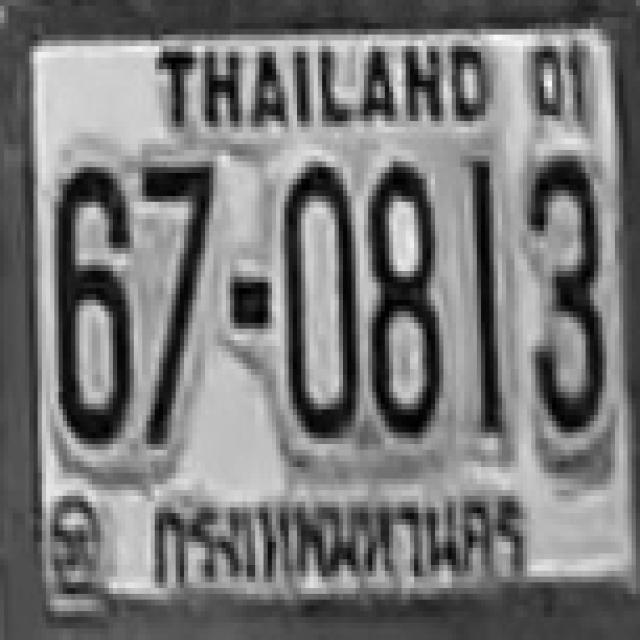0: (280, 158, 356, 436)
1: (469, 158, 506, 436)
3: (523, 150, 606, 461)
6: (50, 164, 130, 441)
7: (138, 156, 213, 444), (138, 156, 213, 398), (138, 156, 213, 346)
8: (364, 156, 439, 432)
Bangkok: (138, 477, 554, 610)
